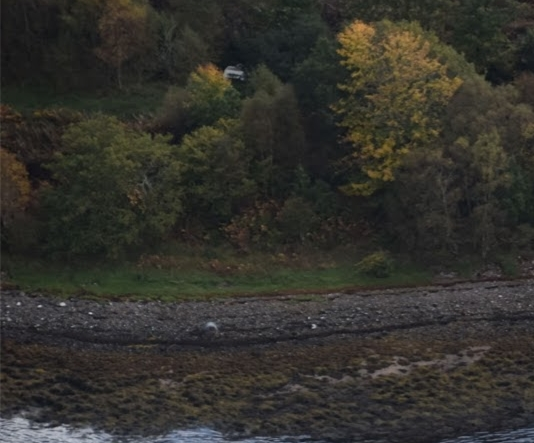white_in_green: (210, 46, 261, 94), (187, 303, 233, 347)
